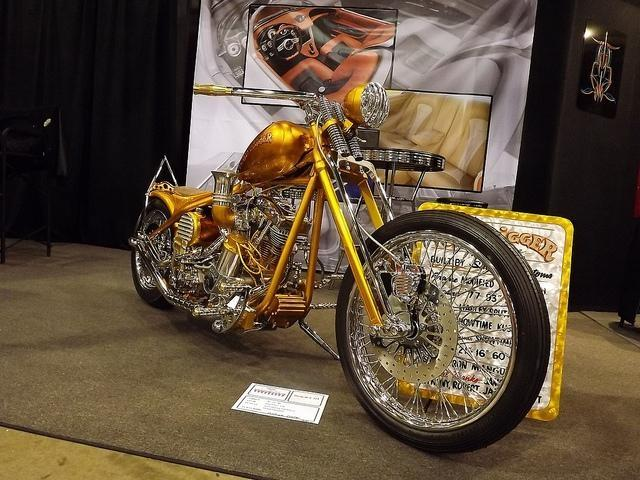motorcycle: (134, 86, 534, 457)
